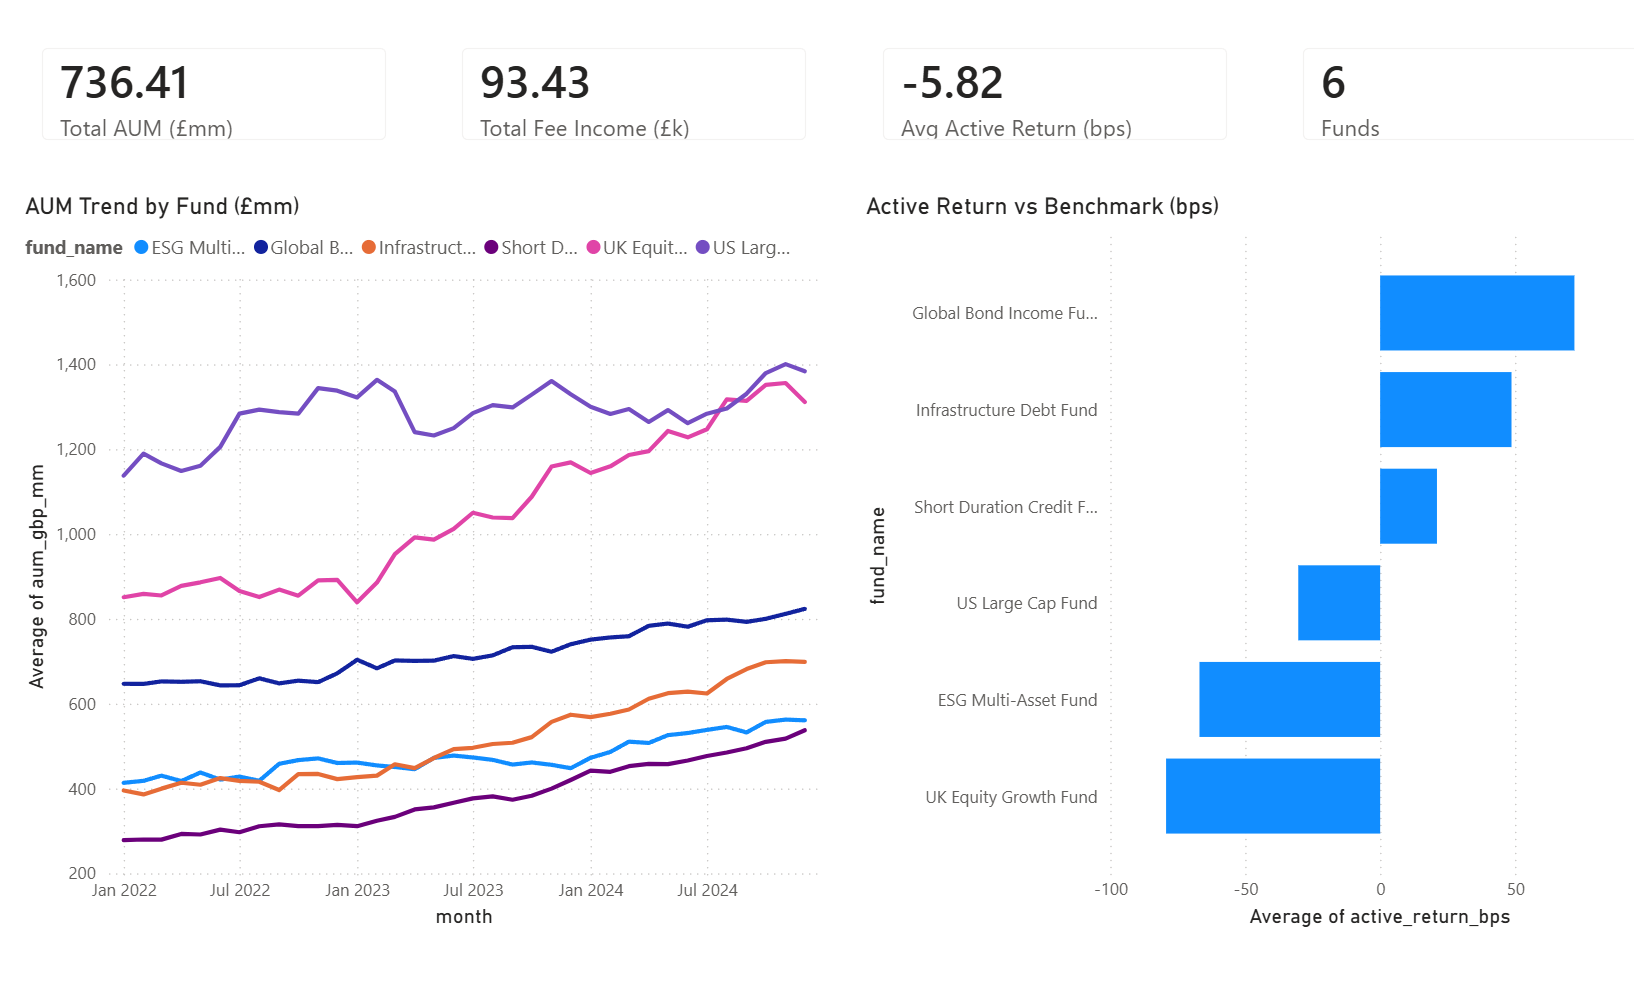

This screenshot's page, from the dashboard's own definition file:
{"tool":"powerbi","page":{"name":"Asset Management","canvas":[1280,720],"ordinal":0},"visuals":[{"type":"cardVisual","title":"Total AUM(£)","fields":{"Data":["Avg(am_fund_performance.aum_gbp_mm)"]},"box":[20,20,280,100],"z":0},{"type":"cardVisual","fields":{"Data":["Sum(am_fund_performance.mgmt_fee_income_gbp_k)"]},"box":[320,20,280,100],"z":1000},{"type":"cardVisual","fields":{"Data":["Avg(am_fund_performance.active_return_bps)"]},"box":[620,20,280,100],"z":2000},{"type":"cardVisual","fields":{"Data":["Count(am_fund_performance.fund_name)"]},"box":[920,20,280,100],"z":3000},{"type":"lineChart","title":"AUM Trend by Fund (£mm)","fields":{"Y":["Avg(am_fund_performance.aum_gbp_mm)"],"Series":["am_fund_performance.fund_name"],"Category":["am_fund_performance.month"]},"box":[20,140,580,530],"z":4000},{"type":"clusteredBarChart","title":"Active Return vs Benchmark (bps)","fields":{"Category":["am_fund_performance.fund_name"],"Y":["Avg(am_fund_performance.active_return_bps)"]},"box":[620,140,580,530],"z":4001},{"type":"slicer","fields":{"Values":["am_fund_performance.month.Variation.Date Hierarchy.Year"]},"box":[1197.3,139.3,82.7,119.4],"z":4002}]}

Visuals, with their boxes on the page's 1280x720 design canvas (x1, y1, x2, y2). These are canvas units, not pixel positions in the 1634x998 screenshot, which may show the page scaled, cropped or inside an application window:
"Total AUM(£)" cardVisual: (x1=20, y1=20, x2=300, y2=120)
cardVisual - Sum(am_fund_performance.mgmt_fee_income_gbp_k): (x1=320, y1=20, x2=600, y2=120)
cardVisual - Avg(am_fund_performance.active_return_bps): (x1=620, y1=20, x2=900, y2=120)
cardVisual - Count(am_fund_performance.fund_name): (x1=920, y1=20, x2=1200, y2=120)
"AUM Trend by Fund (£mm)" lineChart: (x1=20, y1=140, x2=600, y2=670)
"Active Return vs Benchmark (bps)" clusteredBarChart: (x1=620, y1=140, x2=1200, y2=670)
slicer - am_fund_performance.month.Variation.Date Hierarchy.Year: (x1=1197, y1=139, x2=1280, y2=259)
